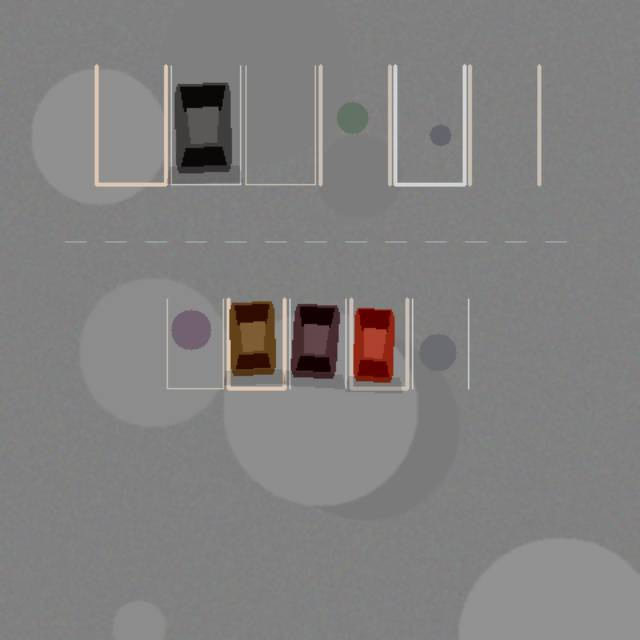space-empty: (245, 65, 315, 184), (469, 65, 539, 184), (96, 65, 165, 184), (320, 65, 389, 184), (395, 65, 464, 184), (167, 299, 223, 388), (412, 299, 468, 388)
space-occupied: (171, 65, 240, 184), (228, 299, 284, 388), (289, 299, 345, 388), (351, 299, 407, 388)
